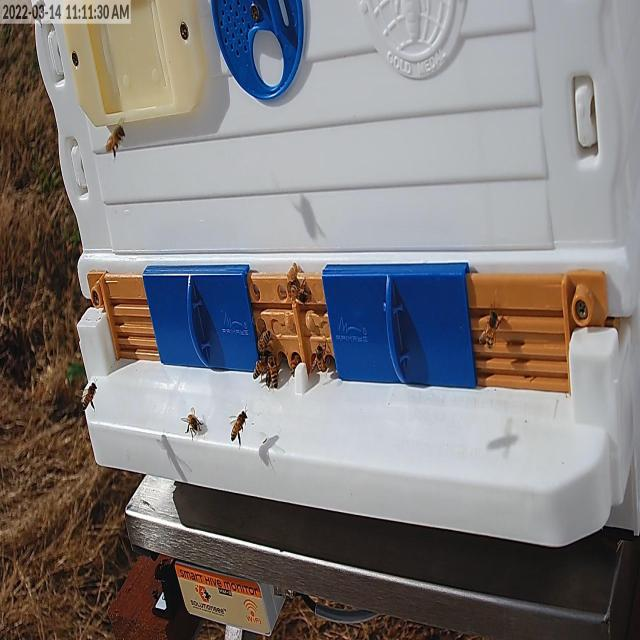honeybee: (479, 307, 503, 346), (180, 406, 204, 439), (230, 406, 250, 444), (106, 118, 125, 156), (78, 378, 98, 411), (310, 342, 328, 373), (289, 283, 311, 307), (256, 328, 273, 356), (266, 356, 280, 388), (253, 352, 267, 380), (290, 355, 300, 374)
